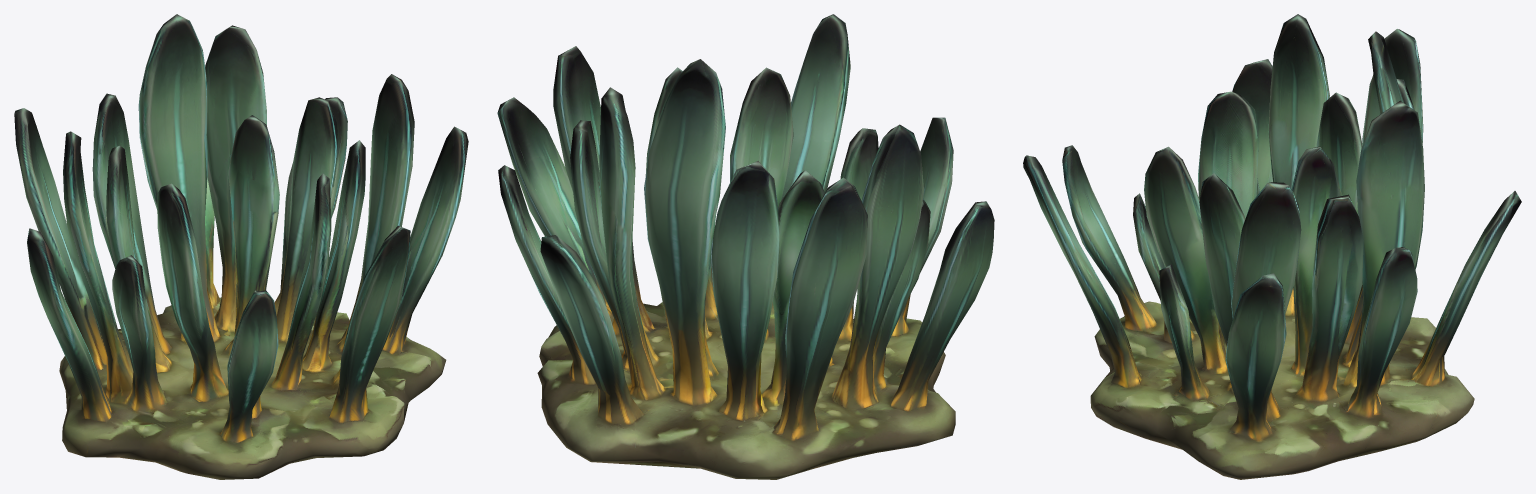
3 views of the same model, side by side, from view 1: azimuth 30°, elevation 25°; view 2: azimuth 150°, elevation 25°; view 3: azimuth 270°, elevation 25° (orthographic). The views are drawn at different scales.
Parts seen in each view (by area): view 1: Mesh_0; view 2: Mesh_0; view 3: Mesh_0.
Boxes of the visible parts, left/top/right/bottom form: Mesh_0: left=14, top=14, right=468, bottom=479; Mesh_0: left=497, top=14, right=994, bottom=479; Mesh_0: left=1023, top=14, right=1521, bottom=479.
Size of the model in its own units: 1.92 by 1.45 by 1.86.
1 material, 1 textured.
